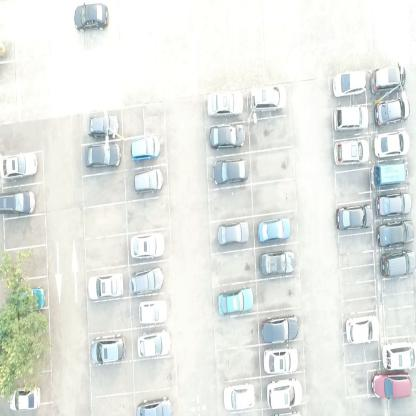car: (370, 63, 407, 95), (206, 88, 244, 119), (90, 332, 126, 364), (373, 96, 410, 127), (250, 82, 287, 113), (260, 314, 298, 344), (370, 372, 412, 399), (376, 220, 416, 248), (218, 284, 253, 316), (267, 379, 303, 410), (333, 138, 370, 168), (87, 271, 124, 301), (335, 204, 373, 233), (129, 266, 164, 297), (262, 346, 298, 376), (212, 156, 248, 186), (1, 152, 37, 182), (370, 160, 409, 187), (257, 215, 292, 245), (136, 329, 171, 359), (373, 130, 410, 158), (217, 217, 250, 248), (382, 339, 416, 369), (374, 191, 412, 217), (332, 69, 366, 98), (8, 383, 42, 412), (74, 3, 109, 31), (379, 248, 415, 275), (260, 250, 296, 277), (209, 124, 245, 151), (129, 232, 165, 259), (10, 285, 46, 312), (84, 143, 121, 169), (223, 382, 255, 412), (346, 315, 380, 343), (0, 190, 36, 216), (133, 166, 164, 196), (130, 133, 160, 163), (333, 106, 370, 130), (86, 113, 119, 139), (136, 394, 173, 416), (138, 299, 168, 325)
